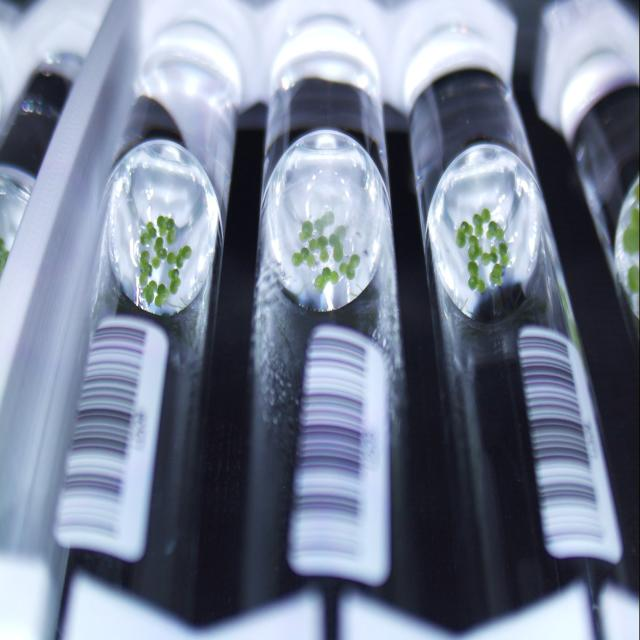Lemna-Gibba: (329, 225, 346, 262), (468, 260, 486, 292), (314, 267, 339, 290), (168, 245, 191, 269), (309, 235, 329, 262), (339, 254, 360, 279), (472, 208, 490, 237), (291, 247, 315, 267), (314, 212, 334, 235), (152, 238, 166, 269), (455, 222, 472, 247), (140, 250, 152, 285), (156, 215, 174, 237), (142, 280, 158, 304), (486, 220, 504, 241), (140, 222, 156, 245), (468, 235, 482, 260), (481, 245, 498, 265), (299, 220, 314, 242), (168, 269, 181, 294), (155, 284, 169, 307), (498, 240, 509, 267), (490, 264, 502, 284), (166, 230, 174, 243)
